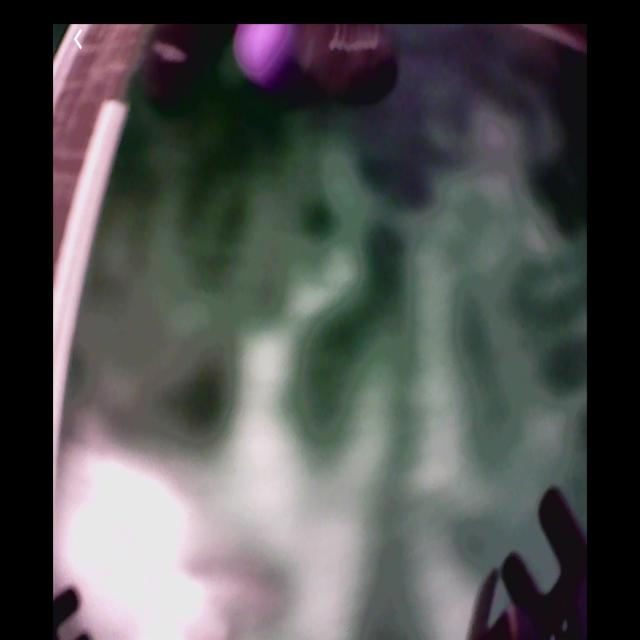ball: (234, 25, 293, 84)
